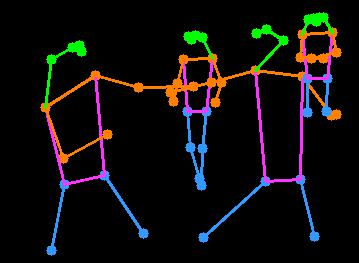normal: (161, 26, 229, 197), (292, 7, 346, 125)
